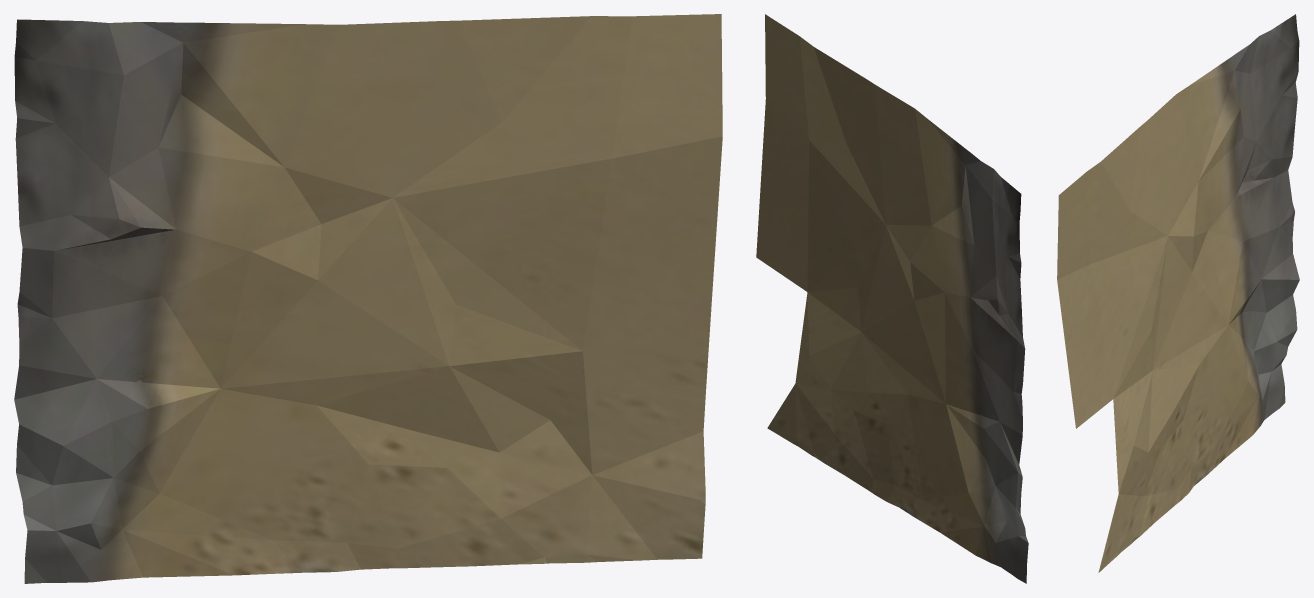
3 views of the same model, side by side, from view 1: azimuth 30°, elevation 25°; view 2: azimuth 150°, elevation 25°; view 3: azimuth 270°, elevation 25° (orthographic). The views are drawn at different scales.
Size of the model in its own units: 0.8374 by 0.8374 by 0.4741.
Materials: 3 (3 with a texture image).
